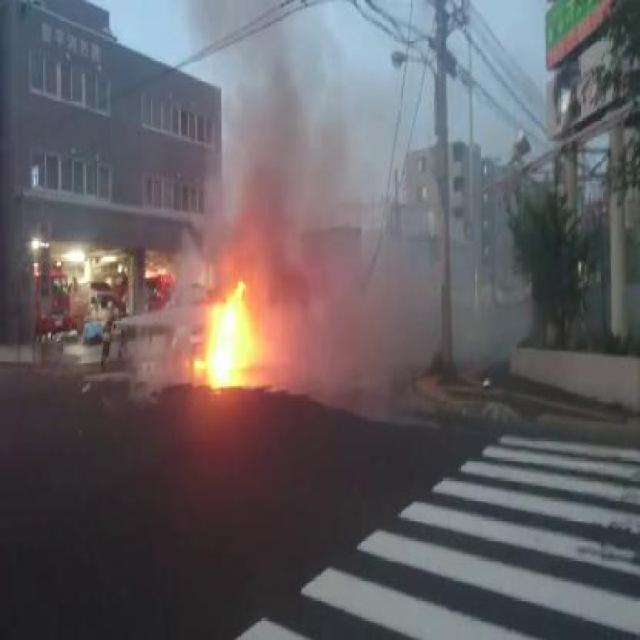Fire: (195, 280, 260, 392)
